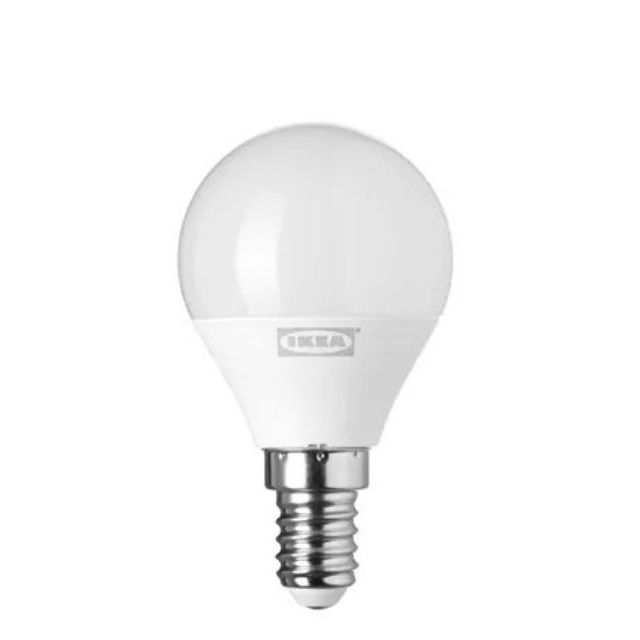Light_bulb: (167, 107, 462, 621)
